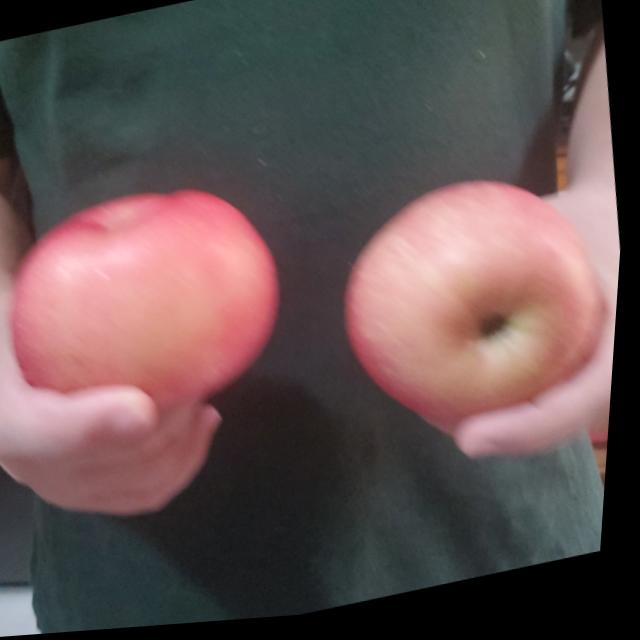apple: (324, 161, 630, 467), (0, 169, 302, 436)
